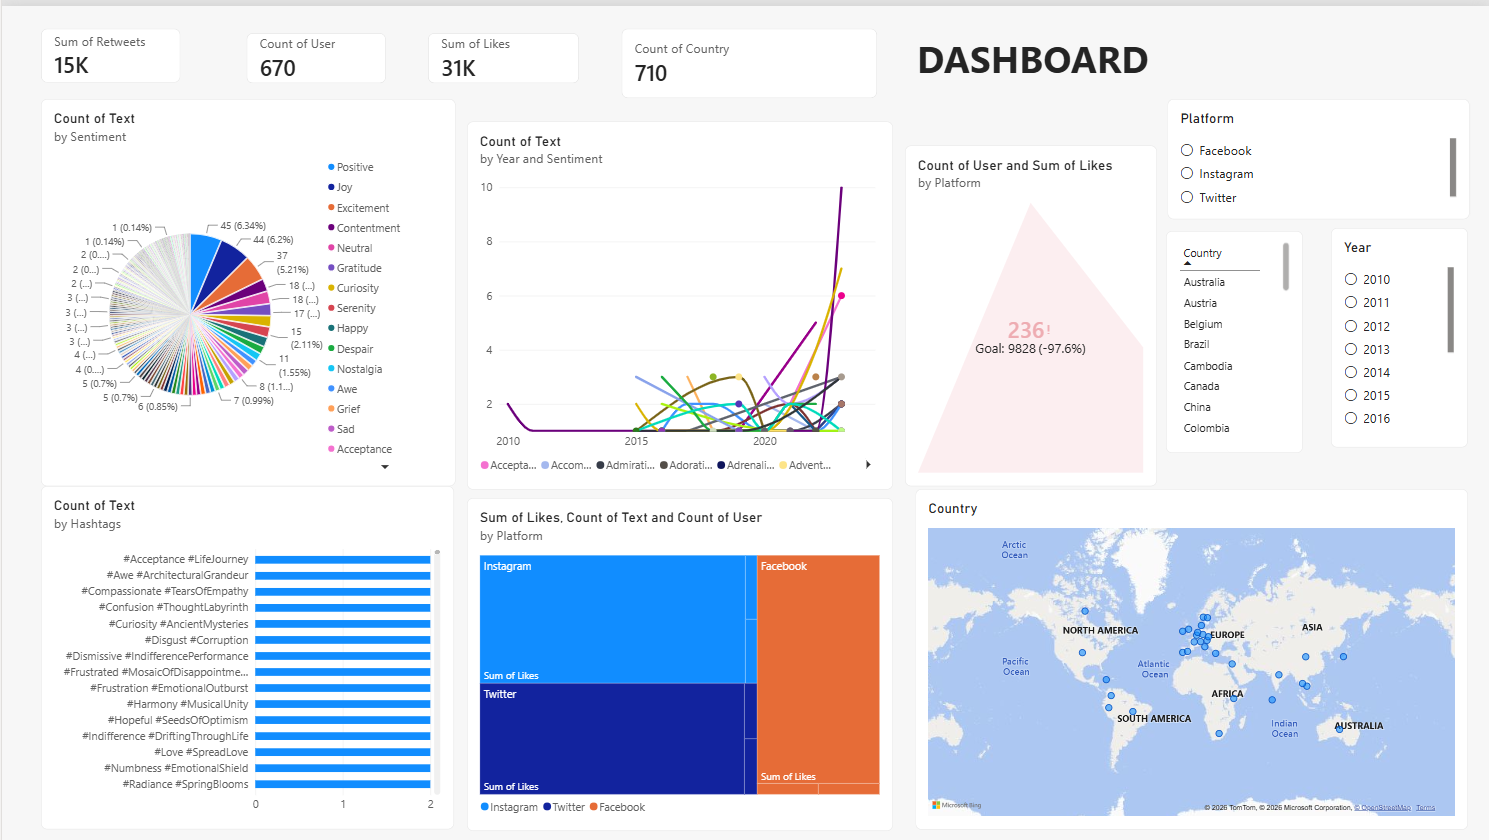

The dashboard page shown, as its layout file describes it:
{"tool":"powerbi","page":{"name":"Page 1","canvas":[1920,1080],"ordinal":0},"visuals":[{"type":"cardVisual","fields":{"Data":["Count(3) Sentiment dataset.User)"]},"box":[315,35,180,65],"z":0},{"type":"cardVisual","fields":{"Data":["Sum(3) Sentiment dataset.Likes)"]},"box":[550,35,195,65],"z":1000},{"type":"cardVisual","fields":{"Data":["Sum(3) Sentiment dataset.Retweets)"]},"box":[50,30,180,70],"z":2000},{"type":"pieChart","fields":{"Category":["3) Sentiment dataset.Sentiment"],"Y":["CountNonNull(3) Sentiment dataset.Text)"]},"box":[50,120,535,500],"z":3000},{"type":"barChart","fields":{"Category":["3) Sentiment dataset.Hashtags"],"Y":["CountNonNull(3) Sentiment dataset.Text)"]},"box":[50,620,533,443],"z":4000},{"type":"lineChart","fields":{"Category":["3) Sentiment dataset.Year"],"Series":["3) Sentiment dataset.Sentiment"],"Y":["CountNonNull(3) Sentiment dataset.Text)"]},"box":[600,150,550,475],"z":5000},{"type":"treemap","fields":{"Group":["3) Sentiment dataset.Platform"],"Values":["Sum(3) Sentiment dataset.Likes)","CountNonNull(3) Sentiment dataset.Text)","CountNonNull(3) Sentiment dataset.User)"]},"box":[600,635,550,430],"z":6000},{"type":"map","fields":{"Category":["3) Sentiment dataset.Country"]},"box":[1180,623.3,713.3,440],"z":7000},{"type":"listSlicer","fields":{"Values":["3) Sentiment dataset.Platform"]},"box":[1505,120,390,155],"z":8000},{"type":"tableEx","fields":{"Values":["3) Sentiment dataset.Country"]},"box":[1503.3,290,176.7,286.7],"z":9000},{"type":"listSlicer","fields":{"Values":["3) Sentiment dataset.Year"]},"box":[1716.7,286.7,176.7,283.3],"z":10000},{"type":"kpi","fields":{"Goal":["Sum(3) Sentiment dataset.Likes)"],"Indicator":["CountNonNull(3) Sentiment dataset.User)"],"TrendLine":["3) Sentiment dataset.Platform"]},"box":[1165,180,325,440],"z":10001},{"type":"cardVisual","fields":{"Data":["CountNonNull(3) Sentiment dataset.Country)"]},"box":[800,30,330,90],"z":10002},{"type":"textbox","box":[100,100,300,300],"z":10004},{"type":"textbox","box":[100,100,300,300],"z":10005},{"type":"textbox","box":[1181.1,34.1,324.8,65.9],"z":10006}]}

Visuals, with their boxes in screenshot pixels (x1, y1, x2, y2), scaled from the page's 1920x1080 canvas onto the 1489x840 screenshot:
cardVisual - Count(3) Sentiment dataset.User): (left=244, top=27, right=384, bottom=78)
cardVisual - Sum(3) Sentiment dataset.Likes): (left=427, top=27, right=578, bottom=78)
cardVisual - Sum(3) Sentiment dataset.Retweets): (left=39, top=23, right=178, bottom=78)
pieChart - 3) Sentiment dataset.Sentiment x CountNonNull(3) Sentiment dataset.Text): (left=39, top=93, right=454, bottom=482)
barChart - 3) Sentiment dataset.Hashtags x CountNonNull(3) Sentiment dataset.Text): (left=39, top=482, right=452, bottom=827)
lineChart - 3) Sentiment dataset.Year x 3) Sentiment dataset.Sentiment: (left=465, top=117, right=892, bottom=486)
treemap - 3) Sentiment dataset.Platform x Sum(3) Sentiment dataset.Likes): (left=465, top=494, right=892, bottom=828)
map - 3) Sentiment dataset.Country: (left=915, top=485, right=1468, bottom=827)
listSlicer - 3) Sentiment dataset.Platform: (left=1167, top=93, right=1470, bottom=214)
tableEx - 3) Sentiment dataset.Country: (left=1166, top=226, right=1303, bottom=449)
listSlicer - 3) Sentiment dataset.Year: (left=1331, top=223, right=1468, bottom=443)
kpi - Sum(3) Sentiment dataset.Likes) x CountNonNull(3) Sentiment dataset.User): (left=903, top=140, right=1156, bottom=482)
cardVisual - CountNonNull(3) Sentiment dataset.Country): (left=620, top=23, right=876, bottom=93)
textbox: (left=78, top=78, right=310, bottom=311)
textbox: (left=78, top=78, right=310, bottom=311)
textbox: (left=916, top=27, right=1168, bottom=78)
